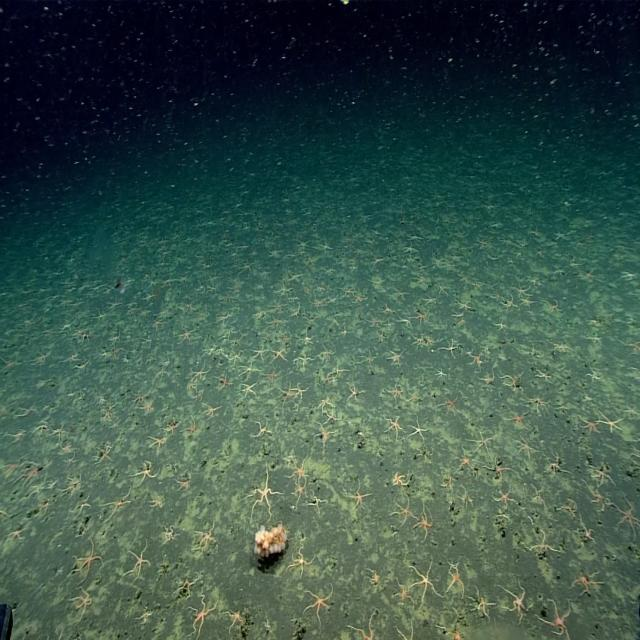brittle-stars: (247, 462, 278, 519), (188, 593, 218, 638), (410, 562, 439, 604), (97, 488, 132, 522), (125, 539, 152, 582), (302, 584, 333, 620), (72, 543, 104, 577), (542, 596, 570, 632), (500, 584, 528, 618), (614, 497, 638, 536), (288, 544, 316, 577), (193, 518, 216, 557), (470, 428, 496, 457), (346, 478, 370, 509), (134, 456, 158, 486), (584, 481, 608, 510), (573, 569, 597, 595), (72, 590, 95, 617), (473, 591, 494, 619), (385, 412, 405, 441), (598, 409, 623, 432), (486, 458, 510, 481), (314, 425, 338, 448), (417, 506, 434, 538), (394, 500, 416, 524), (501, 371, 523, 395), (447, 570, 465, 599), (408, 418, 429, 442), (493, 484, 512, 510), (578, 411, 598, 435), (394, 579, 413, 604), (291, 454, 309, 480), (391, 466, 410, 490), (253, 420, 274, 441), (515, 436, 535, 458), (506, 406, 526, 428), (441, 392, 459, 416), (357, 347, 378, 367), (528, 395, 550, 414), (535, 365, 554, 387), (438, 337, 458, 357), (593, 465, 611, 487), (457, 449, 474, 472), (148, 434, 168, 453), (162, 521, 177, 546), (346, 381, 363, 403), (147, 494, 165, 514), (292, 479, 307, 503), (192, 362, 208, 384), (241, 381, 259, 400), (386, 382, 404, 401), (270, 346, 287, 365), (63, 452, 79, 472), (185, 414, 198, 438), (205, 402, 220, 422), (406, 389, 423, 406), (140, 399, 156, 417), (278, 384, 294, 402), (296, 353, 315, 368), (366, 311, 381, 329), (414, 308, 429, 326), (552, 340, 570, 355), (252, 344, 268, 360), (513, 283, 530, 298), (310, 294, 325, 311), (220, 372, 233, 391), (319, 344, 332, 363), (387, 349, 402, 365), (317, 394, 334, 408), (469, 353, 483, 370), (478, 372, 495, 386), (458, 297, 472, 314), (295, 381, 308, 399), (165, 419, 178, 436), (267, 368, 281, 383), (397, 316, 412, 330), (230, 348, 243, 364), (521, 294, 535, 308), (181, 328, 194, 343), (502, 296, 516, 308), (290, 268, 300, 284), (321, 373, 334, 385), (436, 366, 446, 381)
